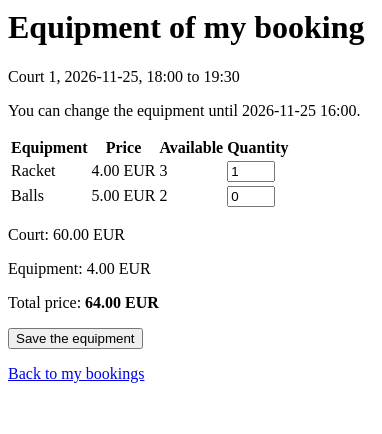
Test case: Equipment of my booking page › updates the total with the quantities, then saves them
Replace the text in the number field named "Racket quantity" with "2" at (251, 171), box [227, 161, 275, 182]
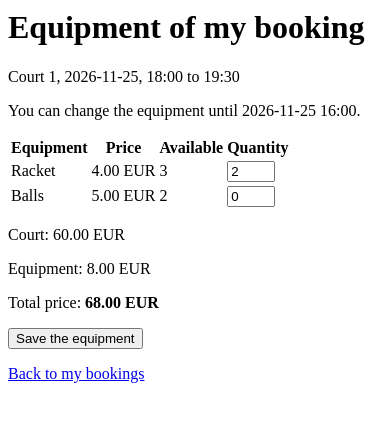
Replace the text in the number field named "Balls quantity" with "2" at (251, 196), box [227, 186, 275, 207]
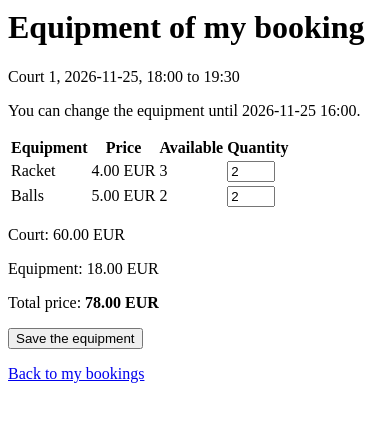
Expected: the text "Equipment: 18.00 EUR" is shown, [8, 260, 159, 277]
Expected: the text "Total price:" reads "Total price: 78.00 EUR", [8, 294, 159, 311]
Click the button "Save the equipment" at (75, 338), box [8, 328, 143, 349]
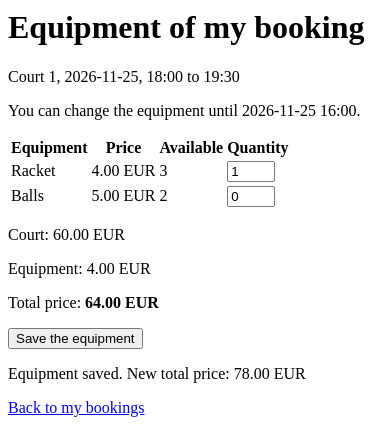
Expected: the message reads "Equipment saved. New total price: 78.00 EUR", [8, 365, 306, 382]
